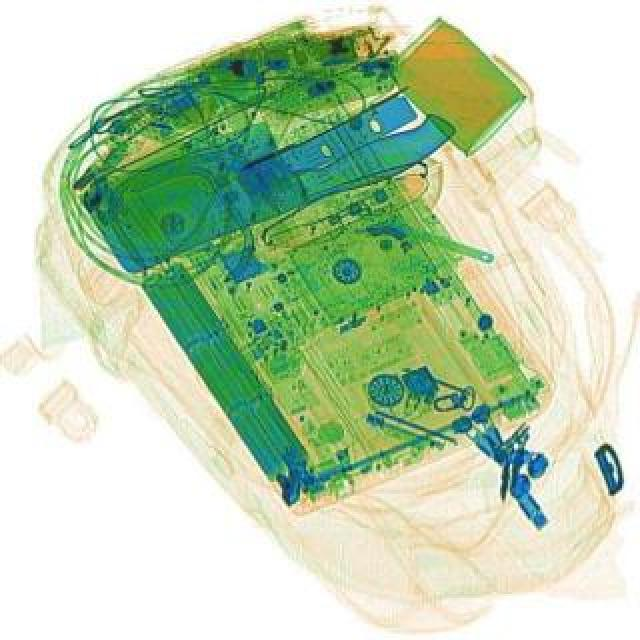knife: (76, 54, 462, 292)
